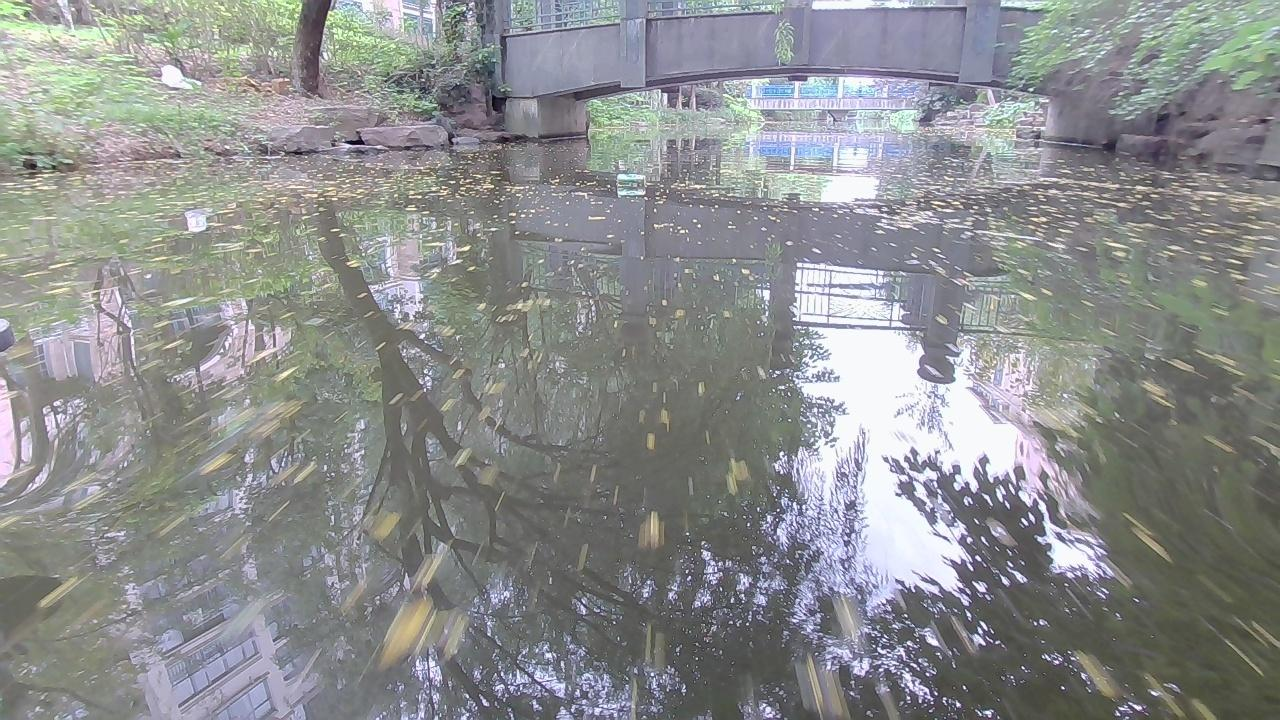bottle: (182, 209, 209, 233), (614, 172, 648, 185)
